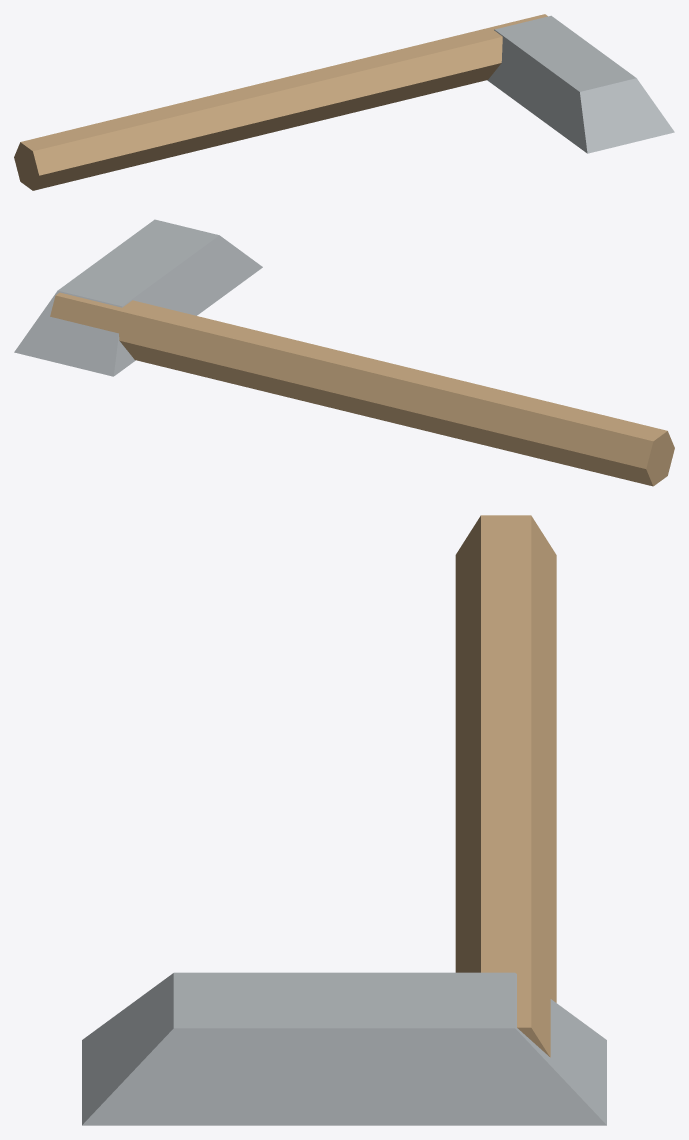
The model's file is item_052_adze_s.glb.
3 renders of one model, top to bottom at view 1: azimuth 30°, elevation 25°; view 2: azimuth 150°, elevation 25°; view 3: azimuth 270°, elevation 25°, orthographic. The views are drawn at different scales.
Parts seen in each view (by area): view 1: item_052_adze_s; view 2: item_052_adze_s; view 3: item_052_adze_s.
Part boxes in pixels (x1,y1,x2,y2): item_052_adze_s: (14,14,674,190); item_052_adze_s: (14,219,674,486); item_052_adze_s: (82,515,606,1125).
Size of the model in its own units: 0.62 by 0.045 by 0.26.
